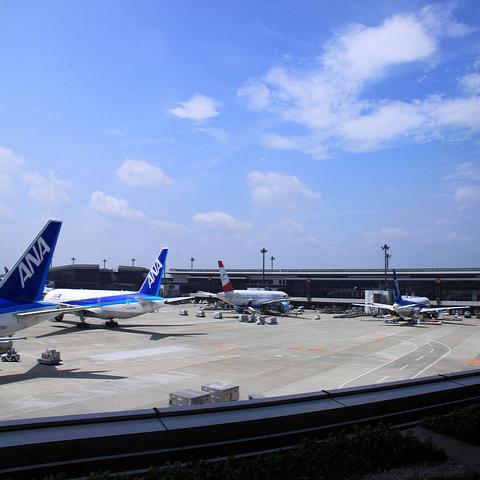car: (1, 346, 20, 362), (298, 306, 304, 312), (315, 314, 320, 320), (476, 313, 480, 319)
truck: (37, 348, 62, 365), (213, 312, 222, 319)
